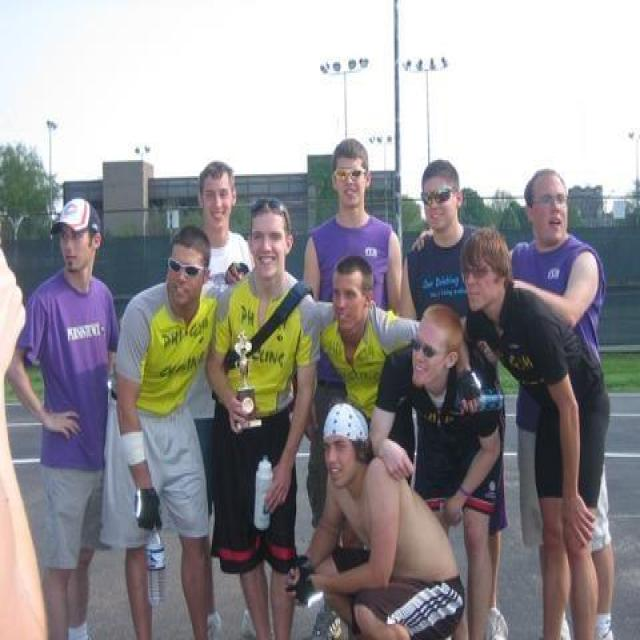Gloves: (130, 474, 170, 540), (281, 568, 325, 608), (285, 552, 316, 588)
No_Gloves: (216, 378, 258, 450), (372, 432, 419, 492), (554, 485, 596, 552), (37, 393, 82, 450), (258, 455, 297, 519), (398, 224, 435, 256), (442, 485, 466, 529)
